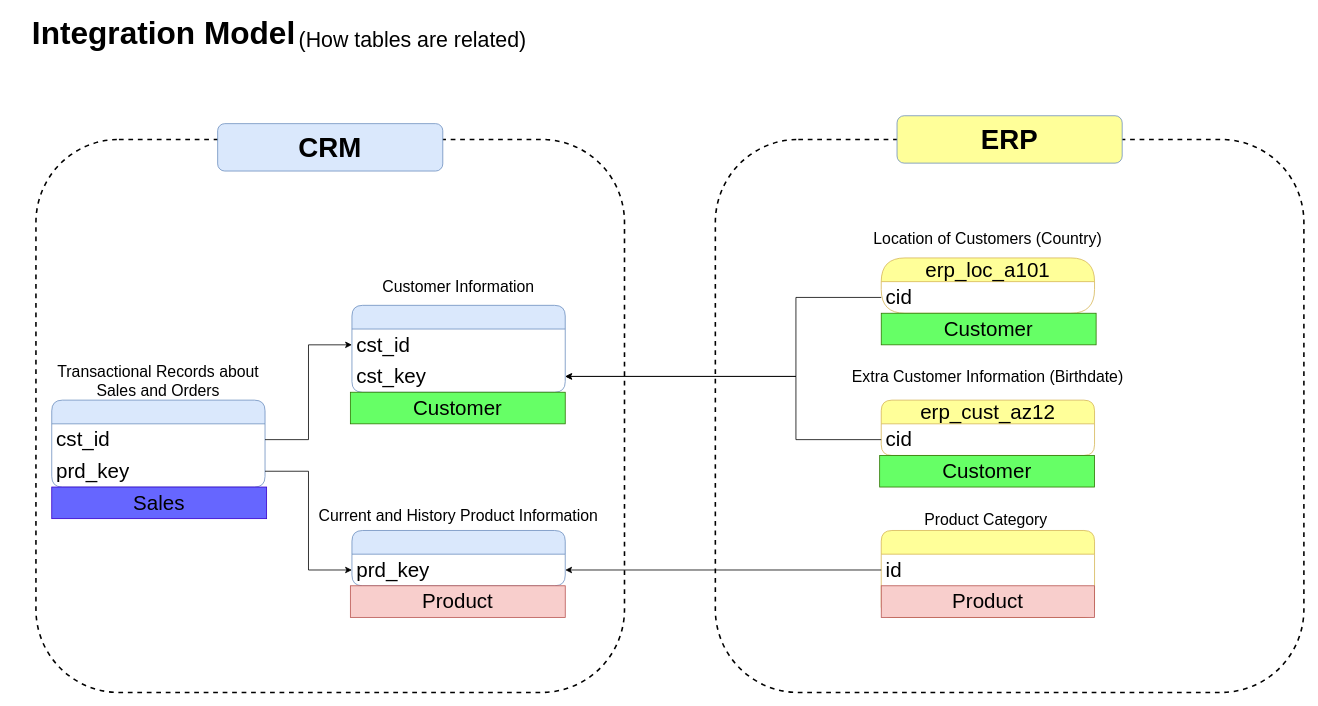
Image size: 1318x706. Some labels were removed from this diagram. Each missing label, with the box of its shape:
crm_cus_info: (351, 305, 565, 392)
crm_prd_info: (351, 530, 565, 586)
crm_sales_details: (51, 399, 265, 487)
erp_px_cat_g1v1: (880, 530, 1095, 617)
